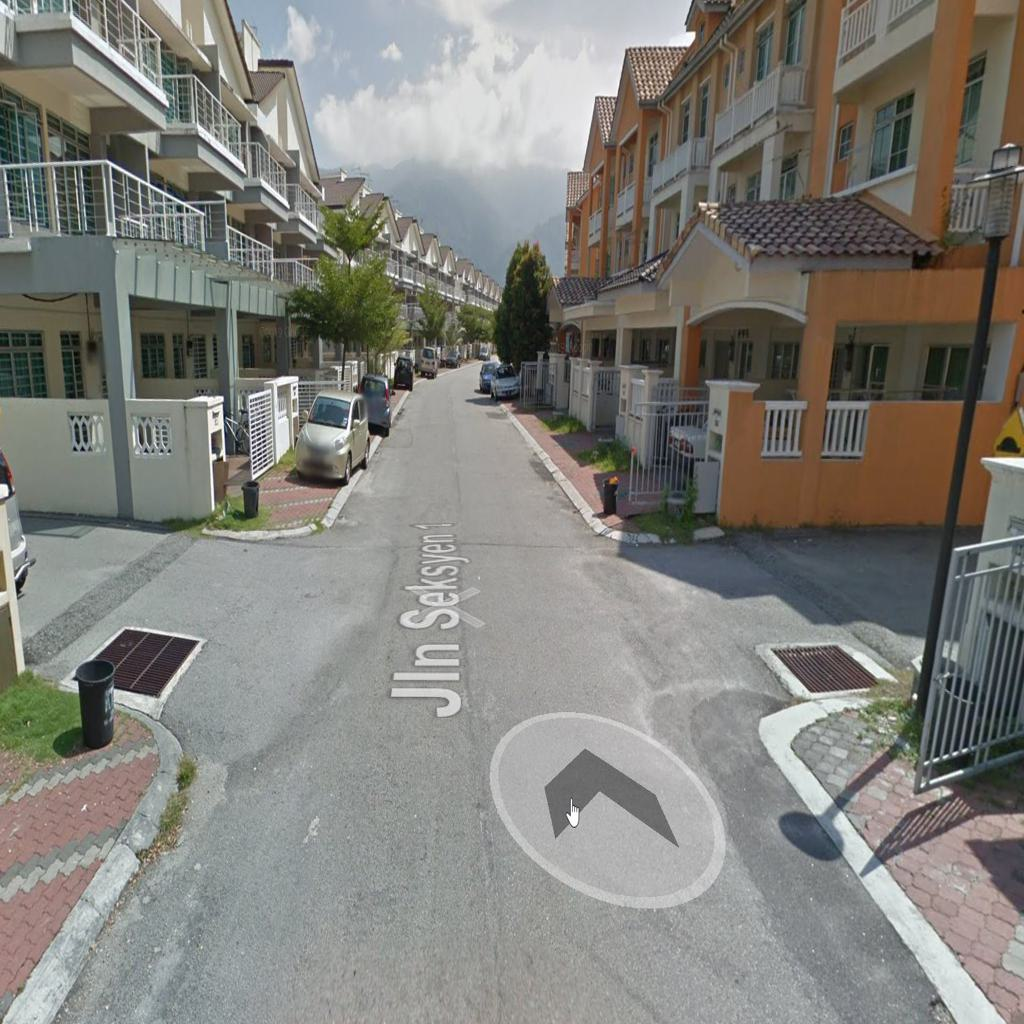Junction: (15, 488, 364, 793), (612, 511, 934, 760)
